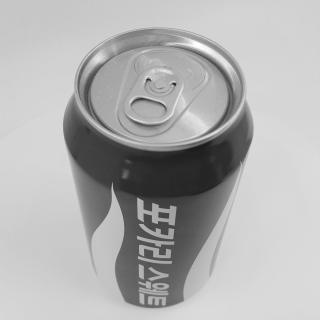alumunium_can: (55, 23, 261, 309)
